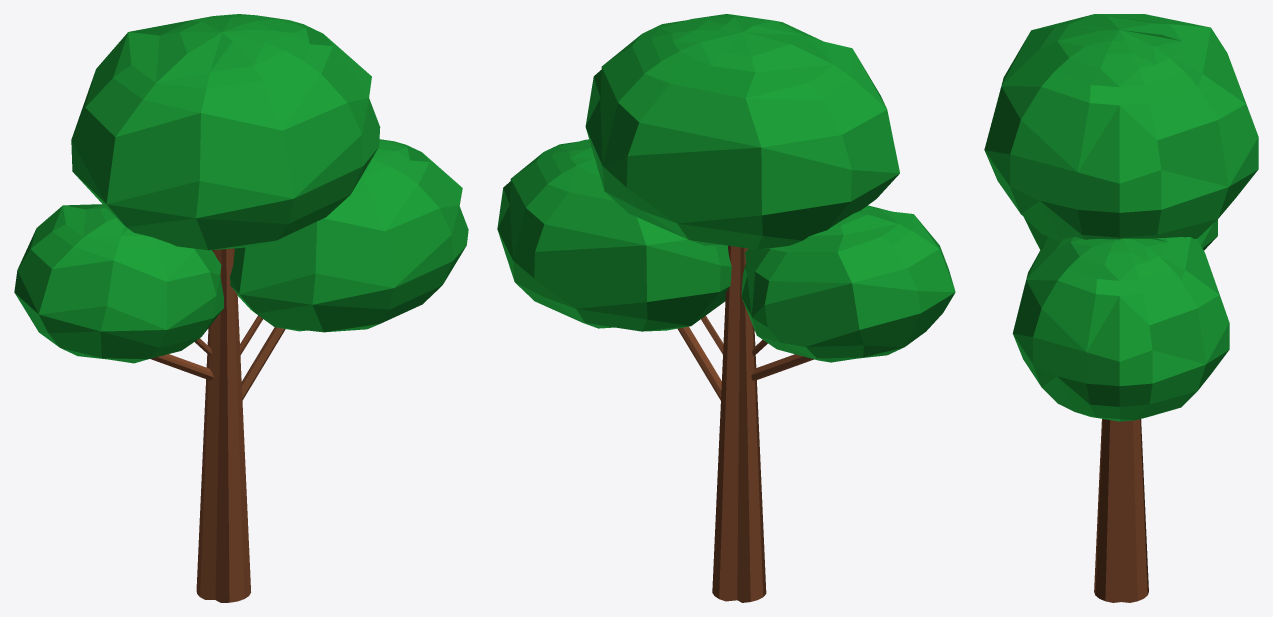
File: H_Big_tree.fbx
The picture shows the model from 3 angles, left to right: view 1: azimuth 30°, elevation 25°; view 2: azimuth 150°, elevation 25°; view 3: azimuth 270°, elevation 25°; orthographic projection.
Parts seen in each view (by area): view 1: pSphere4; view 2: pSphere4; view 3: pSphere4.
Boxes of the visible parts, x1,y1,x2,y2 form: pSphere4: (14, 14, 468, 602); pSphere4: (497, 14, 955, 602); pSphere4: (984, 14, 1258, 602).
Bounding box in the file's own units: 7.38 × 9.01 × 3.99.
